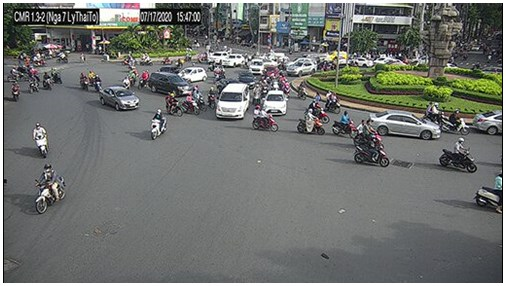xe_hoi: (367, 111, 439, 141), (217, 84, 249, 119), (148, 71, 193, 95), (100, 86, 141, 112), (264, 90, 285, 117), (286, 61, 317, 76), (178, 67, 206, 82), (347, 56, 373, 68), (221, 53, 244, 66), (207, 50, 228, 63), (249, 57, 263, 75), (376, 56, 396, 64)
xe_may: (33, 164, 67, 214), (439, 138, 478, 173), (354, 137, 389, 168), (353, 119, 384, 152), (296, 109, 325, 137), (441, 109, 470, 137), (252, 105, 279, 134), (331, 110, 357, 135), (306, 98, 329, 123), (149, 109, 168, 139), (34, 121, 48, 158), (180, 93, 201, 117), (165, 91, 183, 116), (191, 85, 207, 112), (425, 101, 443, 123), (325, 90, 340, 115), (7, 66, 27, 83), (137, 69, 150, 90), (52, 66, 64, 88), (33, 52, 48, 66), (11, 80, 20, 102), (43, 70, 52, 92), (94, 72, 103, 94), (207, 86, 215, 109), (29, 74, 38, 94), (89, 68, 96, 88), (80, 74, 88, 91), (121, 76, 130, 90)
